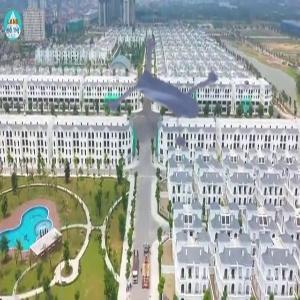drone: (81, 17, 250, 186)
